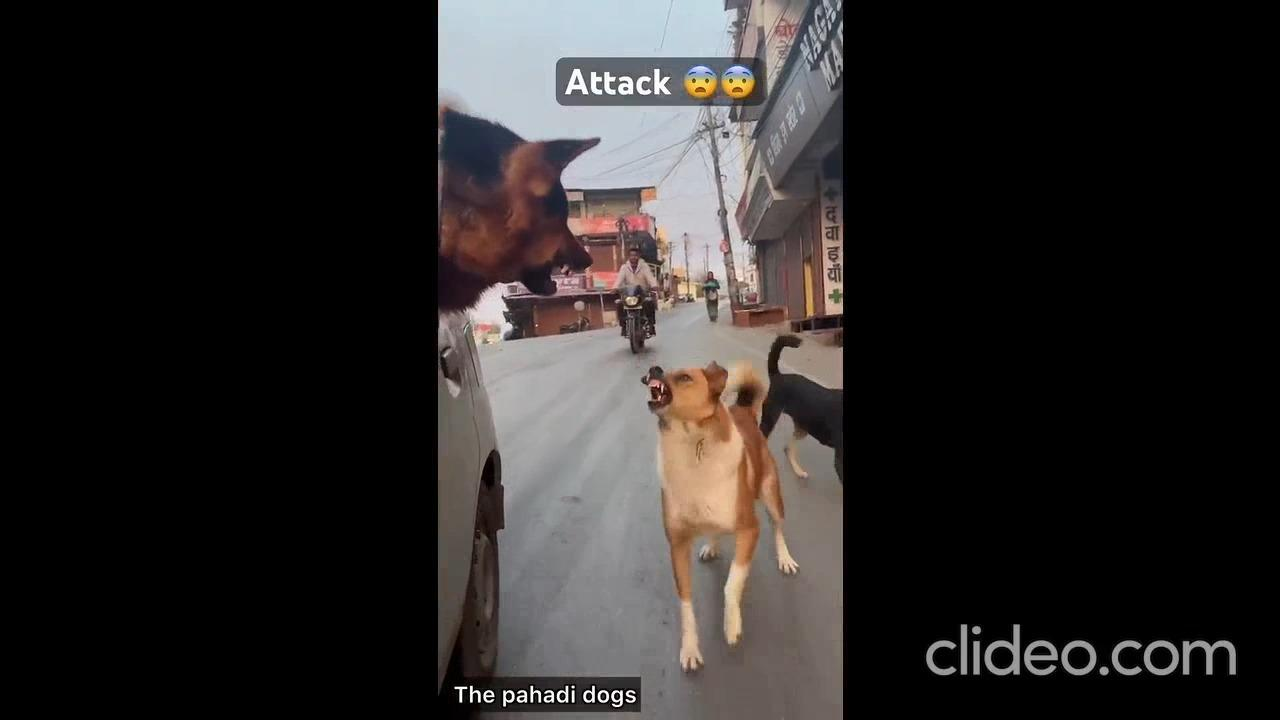dog: (623, 337, 802, 669), (743, 308, 846, 488)
